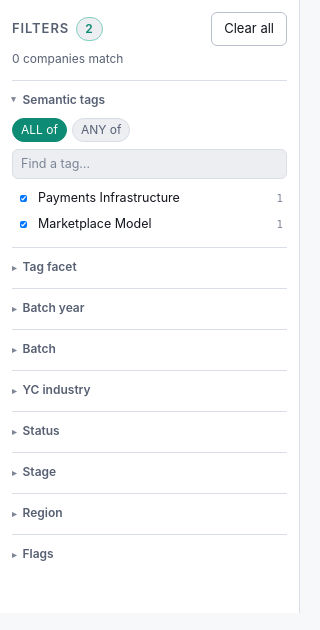
Test: filters › switches tag matching between ALL and ANY
The width and height of the screenshot is (320, 630).
Expected: the message reads "0 companies match", left=12, top=50, right=123, bottom=66
Click the button "ANY of". click: (101, 130)
box: left=72, top=118, right=130, bottom=142
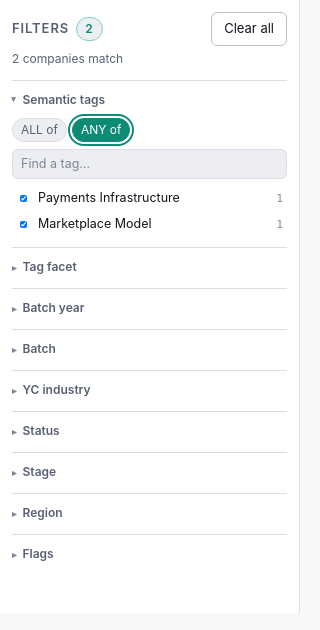
Expected: the message reads "2 companies match", left=12, top=50, right=123, bottom=66
